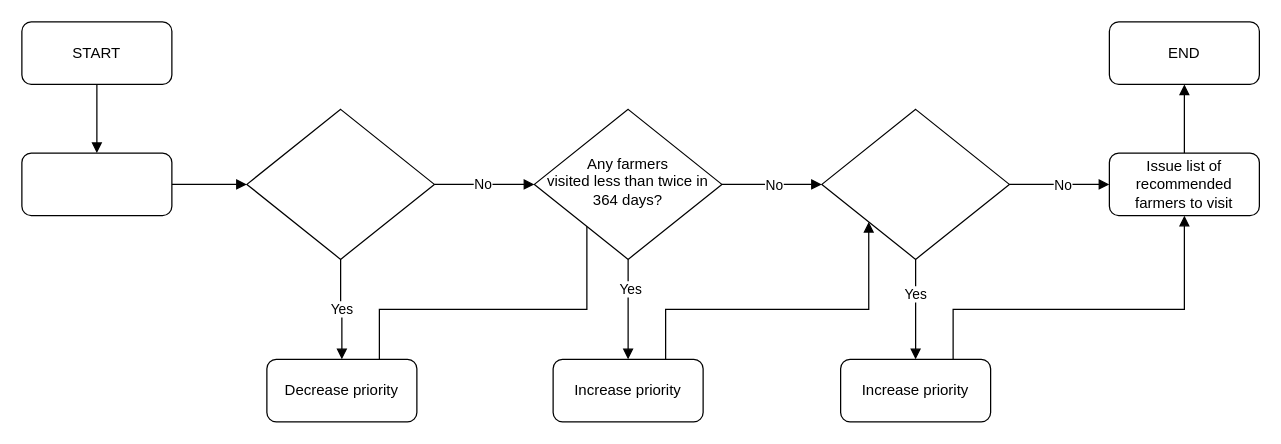
The diagram is 1281 pixels wide and 444 high, and some of its shapes have lost their labels. Here are the shapes that lost their labels. From the top down, the centre of each, then its label:
(96,184): Agronomist starts a new daily plan
(340,183): Any farmers visited more than twice?
(915,183): Any new flags?
